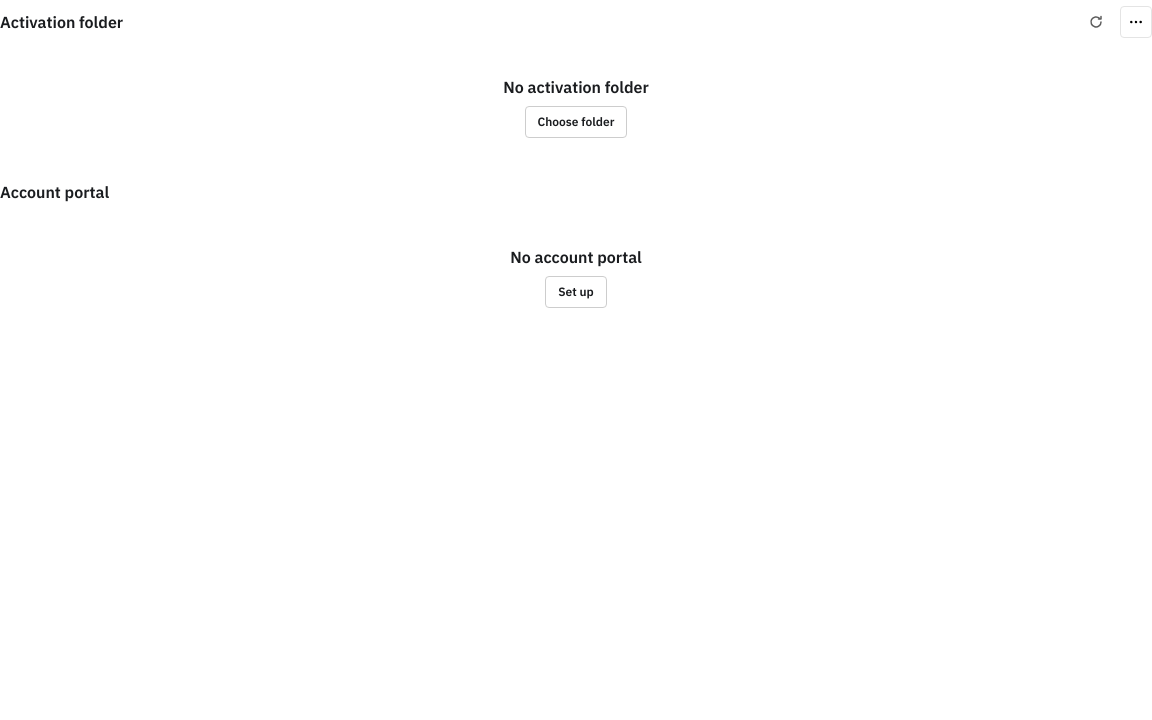
Scenario: a license that cannot configure activation, or cannot be verified, goes no further
Expected: the text "No activation folder" is shown, [503,76,649,98]
Click the button named "More activation actions" at x=1136, y=22, box [1120,6,1151,38]
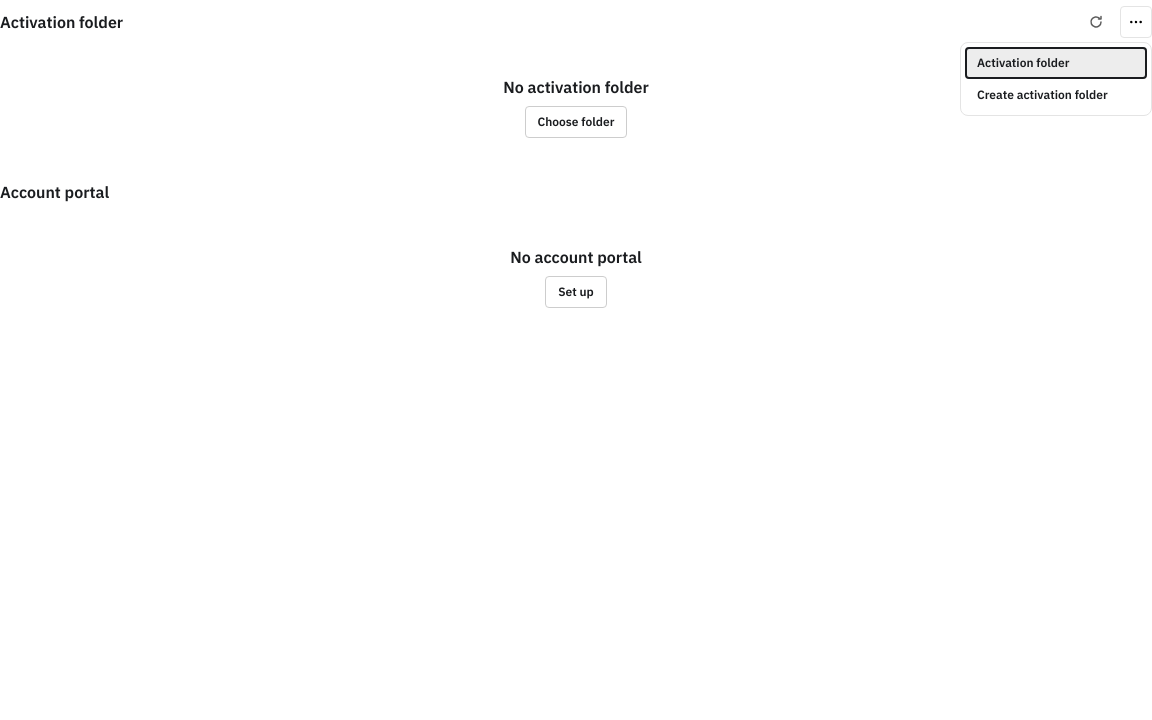
Click the menu item "Create activation folder" at x=1056, y=95, box [965,79,1147,111]
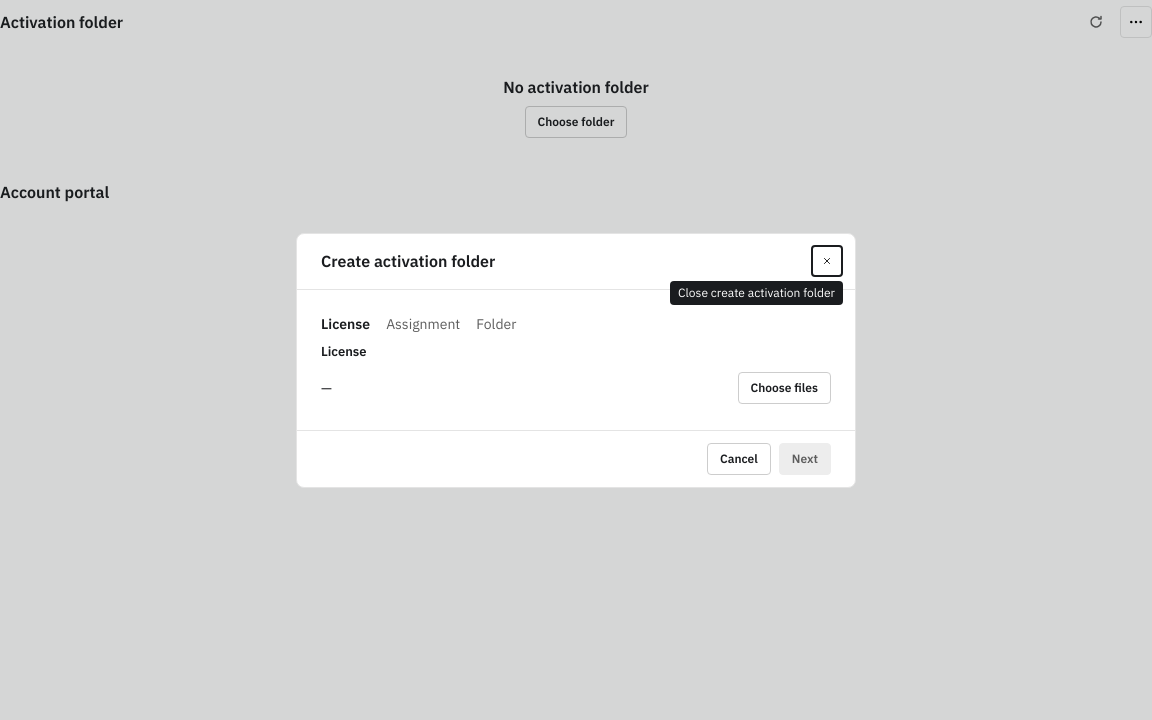
Click the button "Choose files" at x=784, y=388, box [738,372,831,404]
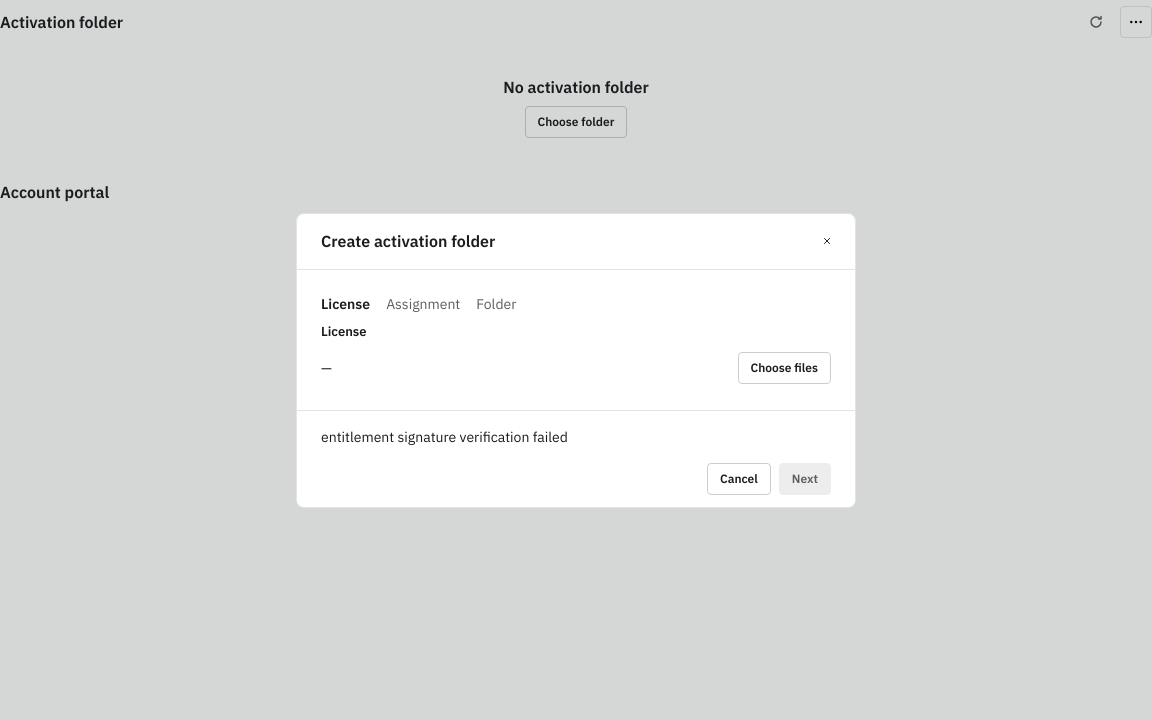
Now the button "Next" is disabled, box [779,462,831,494]
Now the text "entitlement signature verification failed" is shown, box [321,428,568,446]
Click the button "Choose files" at x=784, y=368, box [738,352,831,384]
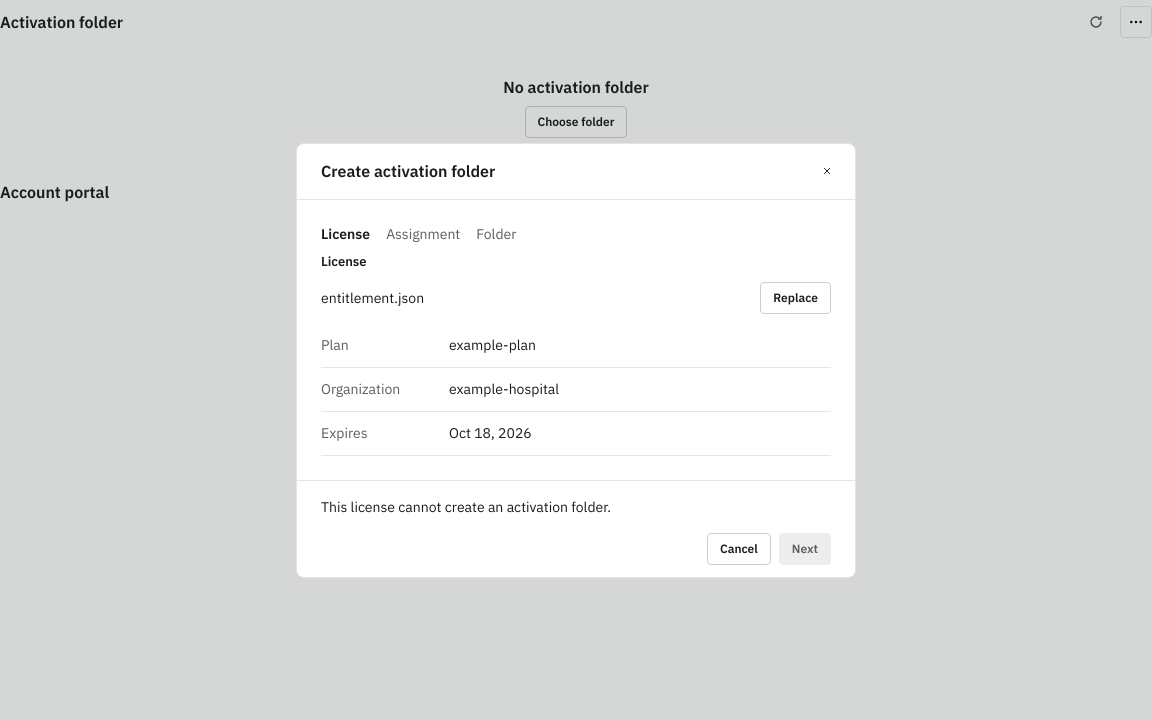
Now the button "Next" is disabled, box [779,532,831,564]
Now the text "This license cannot create an activation folder." is shown, box [321,498,611,516]
